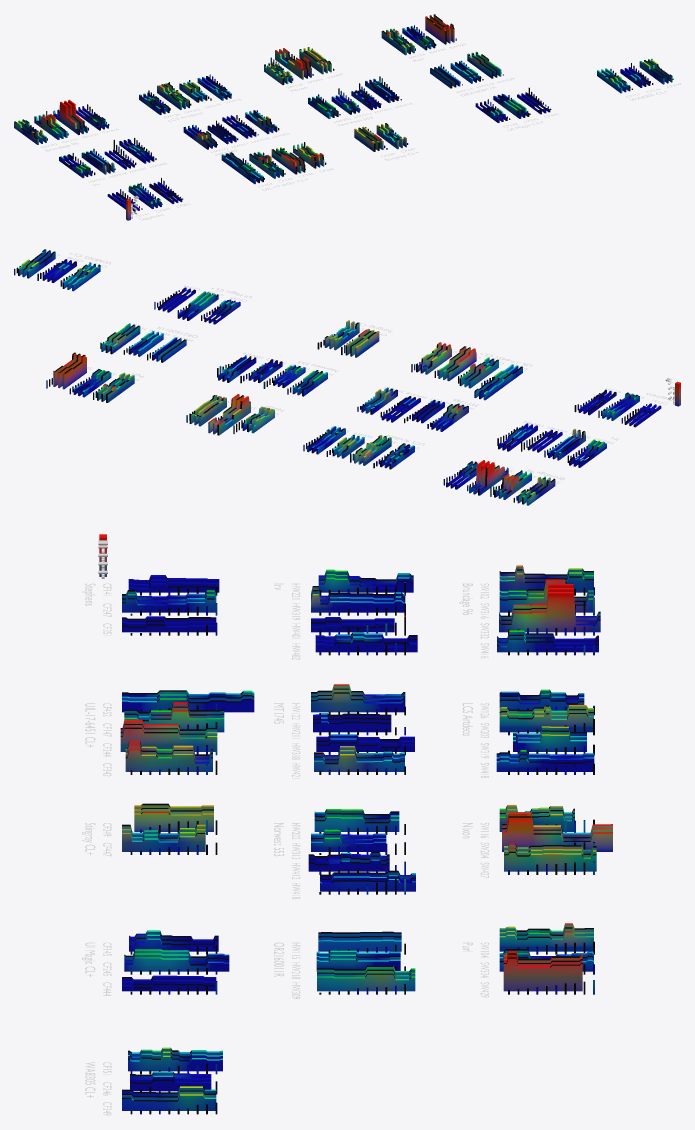
The model's file is map_EI_wStems_50x50_EI_nearest_baseExperiment_2605.fbx.
The picture shows the model from 3 angles, top to bottom: view 1: azimuth 30°, elevation 25°; view 2: azimuth 150°, elevation 25°; view 3: azimuth 270°, elevation 25°; orthographic projection. The views are drawn at different scales.
Parts seen in each view (by area): view 1: joinedObjects; view 2: joinedObjects; view 3: joinedObjects.
Boxes of the visible parts, box(x1,y1,x2,y2) form: joinedObjects: box(14, 14, 673, 220); joinedObjects: box(14, 249, 680, 505); joinedObjects: box(99, 534, 612, 1114).
Bounding box in the file's own units: 3450 × 1430 × 123.
1 material, 1 textured.
